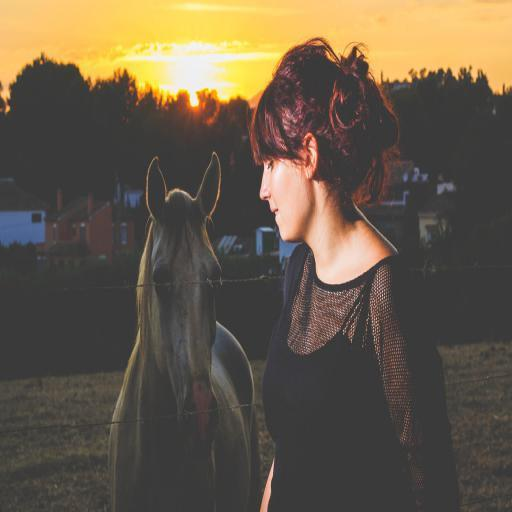horse: (107, 154, 262, 512)
